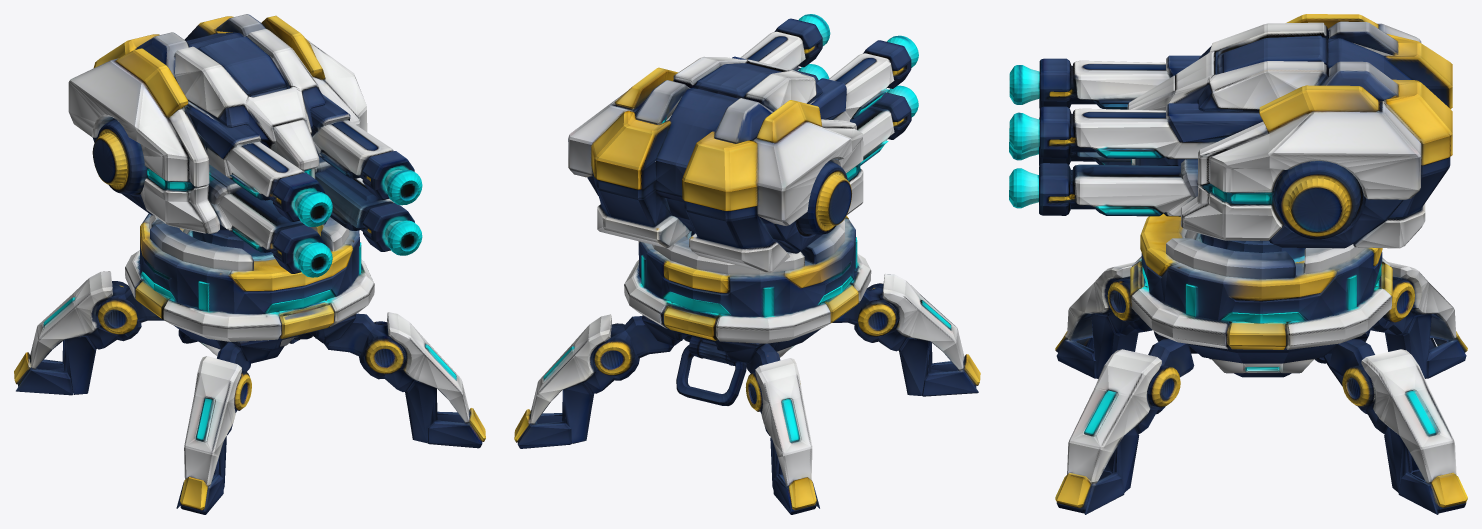
File: Modle_Tower_Assault.fbx
3 renders of one model, left to right at view 1: azimuth 30°, elevation 25°; view 2: azimuth 150°, elevation 25°; view 3: azimuth 270°, elevation 25°, orthographic. The views are drawn at different scales.
Parts seen in each view (by area): view 1: Tower_Assault_Head, Tower_Assault_Base, Tower_Assault_Yaw, Tower_Assault_Barrel_R, Tower_Assault_Barrel_L, Tower_Assault_Muzzle_L, Tower_Assault_Muzzle_R; view 2: Tower_Assault_Head, Tower_Assault_Base, Tower_Assault_Yaw, Tower_Assault_Barrel_R, Tower_Assault_Muzzle_R, Tower_Assault_Muzzle_L, Tower_Assault_Barrel_L; view 3: Tower_Assault_Head, Tower_Assault_Base, Tower_Assault_Yaw, Tower_Assault_Barrel_L, Tower_Assault_Muzzle_L, Tower_Assault_Barrel_R, Tower_Assault_Muzzle_R.
Boxes of the visible parts, x1,y1,x2,y2 form: Tower_Assault_Head: [68, 14, 367, 233]; Tower_Assault_Base: [14, 250, 485, 514]; Tower_Assault_Yaw: [140, 213, 361, 313]; Tower_Assault_Barrel_R: [218, 141, 304, 253]; Tower_Assault_Barrel_L: [312, 120, 393, 231]; Tower_Assault_Muzzle_L: [362, 151, 422, 255]; Tower_Assault_Muzzle_R: [273, 173, 332, 277]; Tower_Assault_Head: [568, 56, 863, 272]; Tower_Assault_Base: [514, 253, 980, 514]; Tower_Assault_Yaw: [638, 216, 857, 316]; Tower_Assault_Barrel_R: [829, 53, 894, 165]; Tower_Assault_Muzzle_R: [863, 35, 918, 139]; Tower_Assault_Muzzle_L: [774, 14, 830, 82]; Tower_Assault_Barrel_L: [740, 31, 805, 71]; Tower_Assault_Head: [1127, 14, 1452, 248]; Tower_Assault_Base: [1055, 256, 1467, 514]; Tower_Assault_Yaw: [1140, 213, 1382, 323]; Tower_Assault_Barrel_L: [1070, 108, 1191, 216]; Tower_Assault_Muzzle_L: [1009, 106, 1071, 215]; Tower_Assault_Barrel_R: [1070, 60, 1169, 165]; Tower_Assault_Muzzle_R: [1009, 58, 1071, 165].
Bounding box in the file's own units: 2.07 × 2.28 × 2.44.
